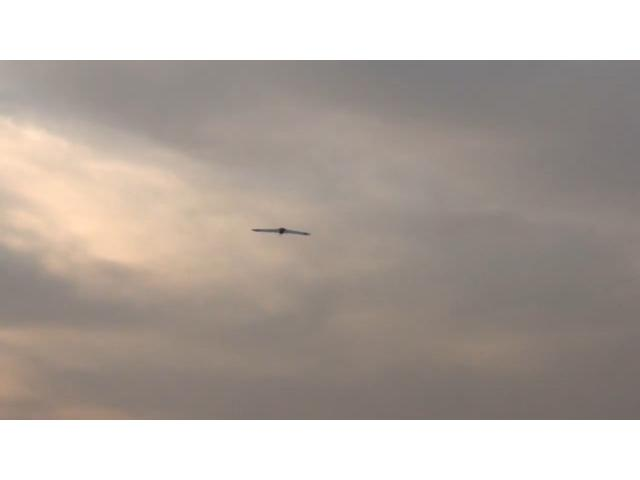Anti-Drone: (252, 225, 310, 237)
